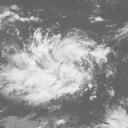cyclone: (6, 34, 97, 107)
